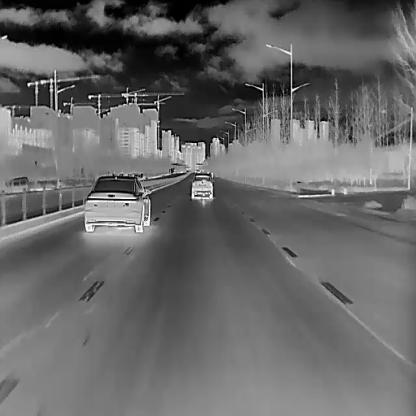car: (84, 173, 151, 232), (190, 172, 213, 199), (4, 175, 28, 193)
